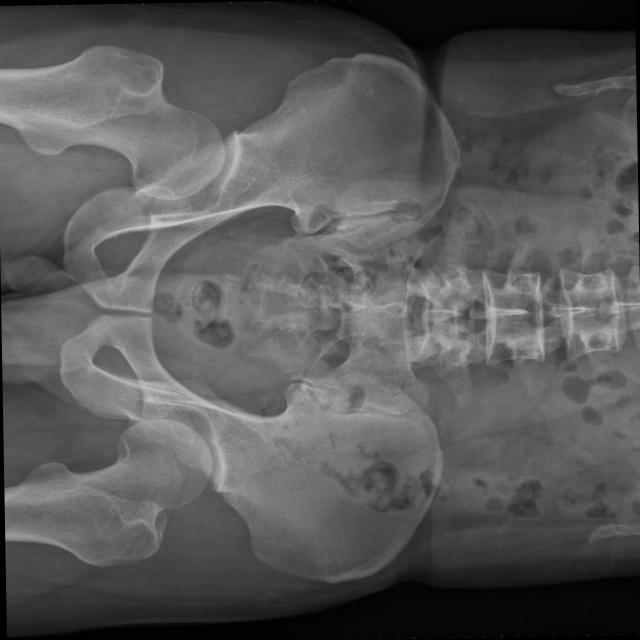normal-left: (3, 419, 211, 567)
normal-right: (0, 44, 223, 199)
